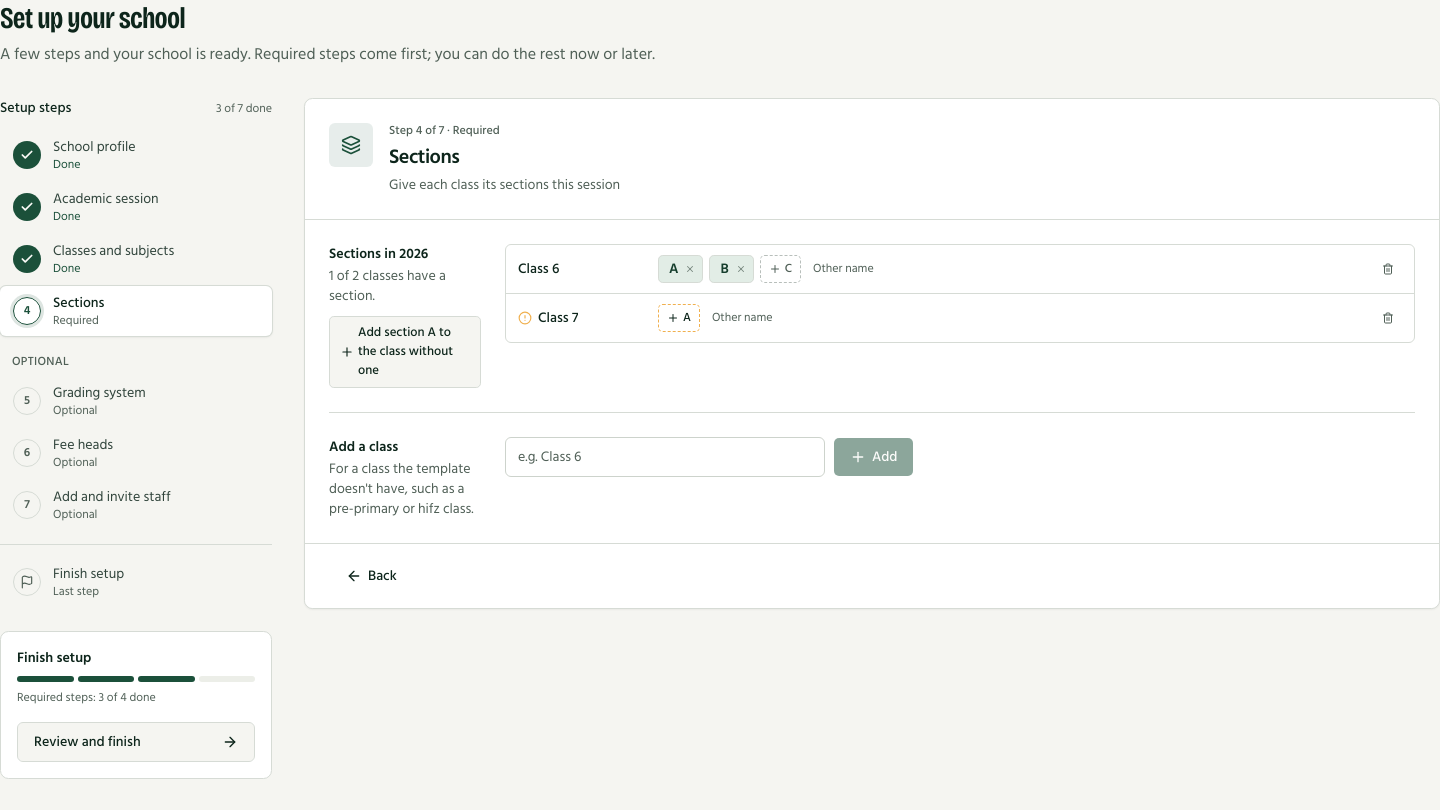
Test: OnboardingWizard › removes a section, and a class after confirming
Click the button named "Remove section B of Class 6" at (741, 269), box [733,261,749,277]
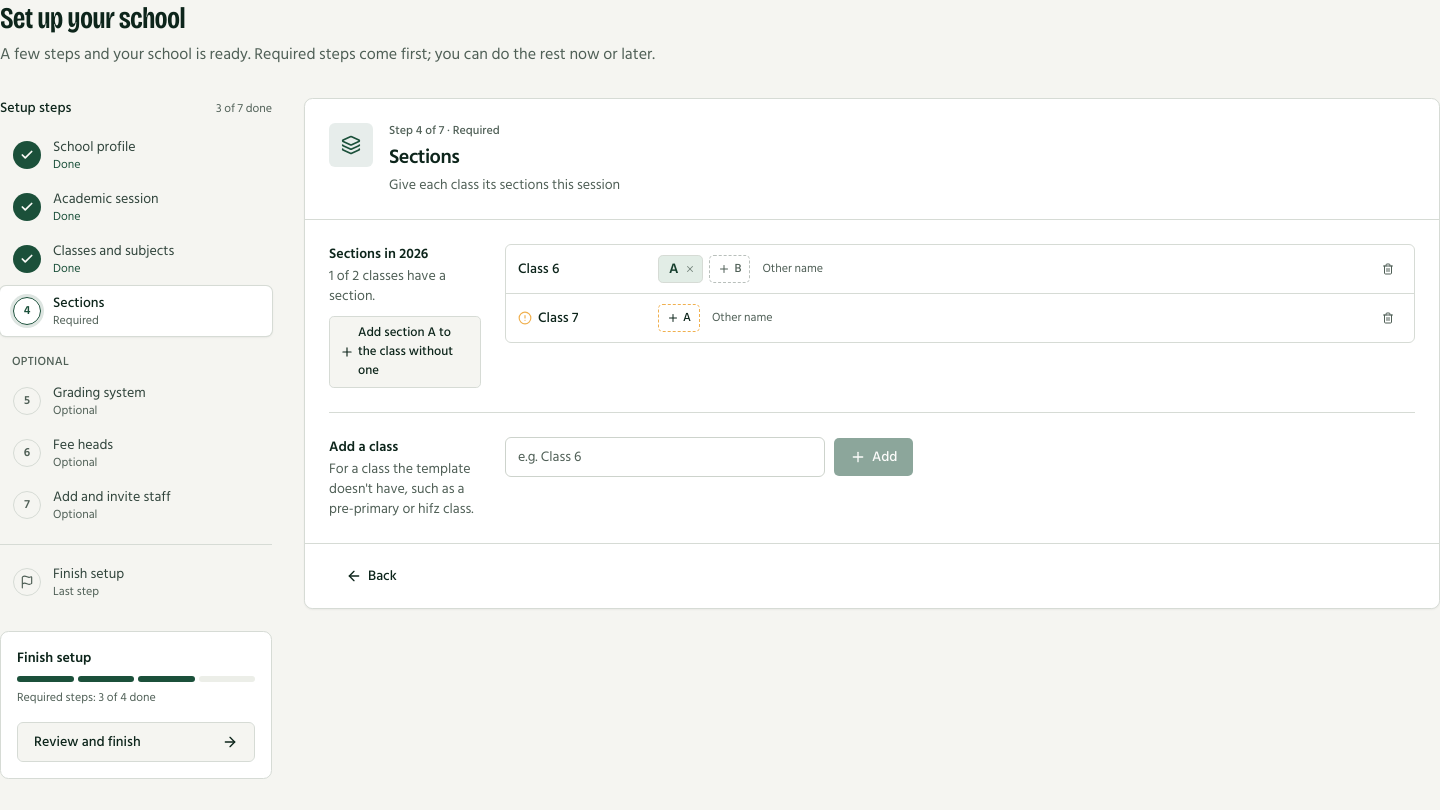
Click the button named "Remove Class 7" at (1388, 318), box [1374,304,1402,332]
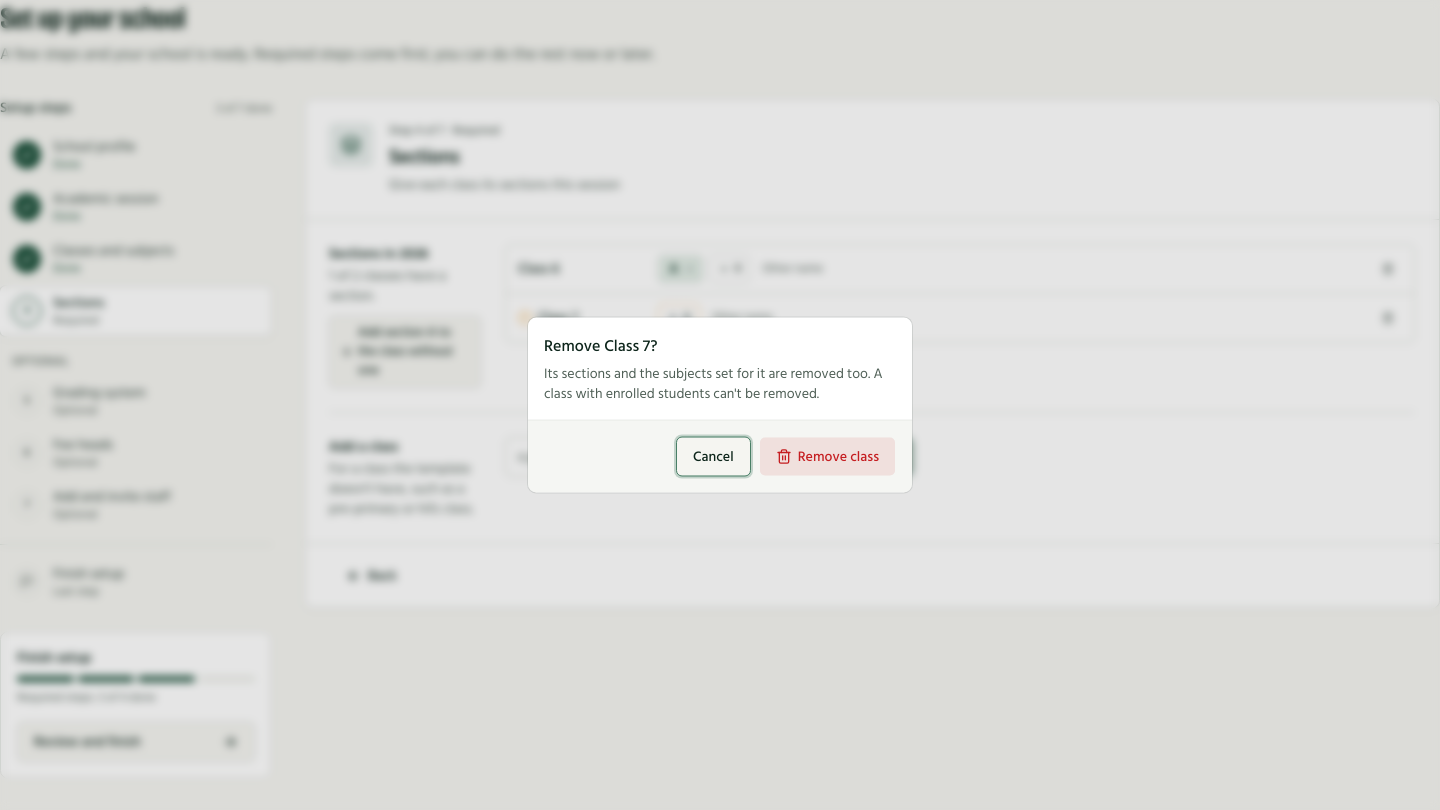
Check: the heading "Remove Class 7?" is shown, box [544,334,658,358]
Click the button "Remove class" at (827, 456), box [759,436,896,476]
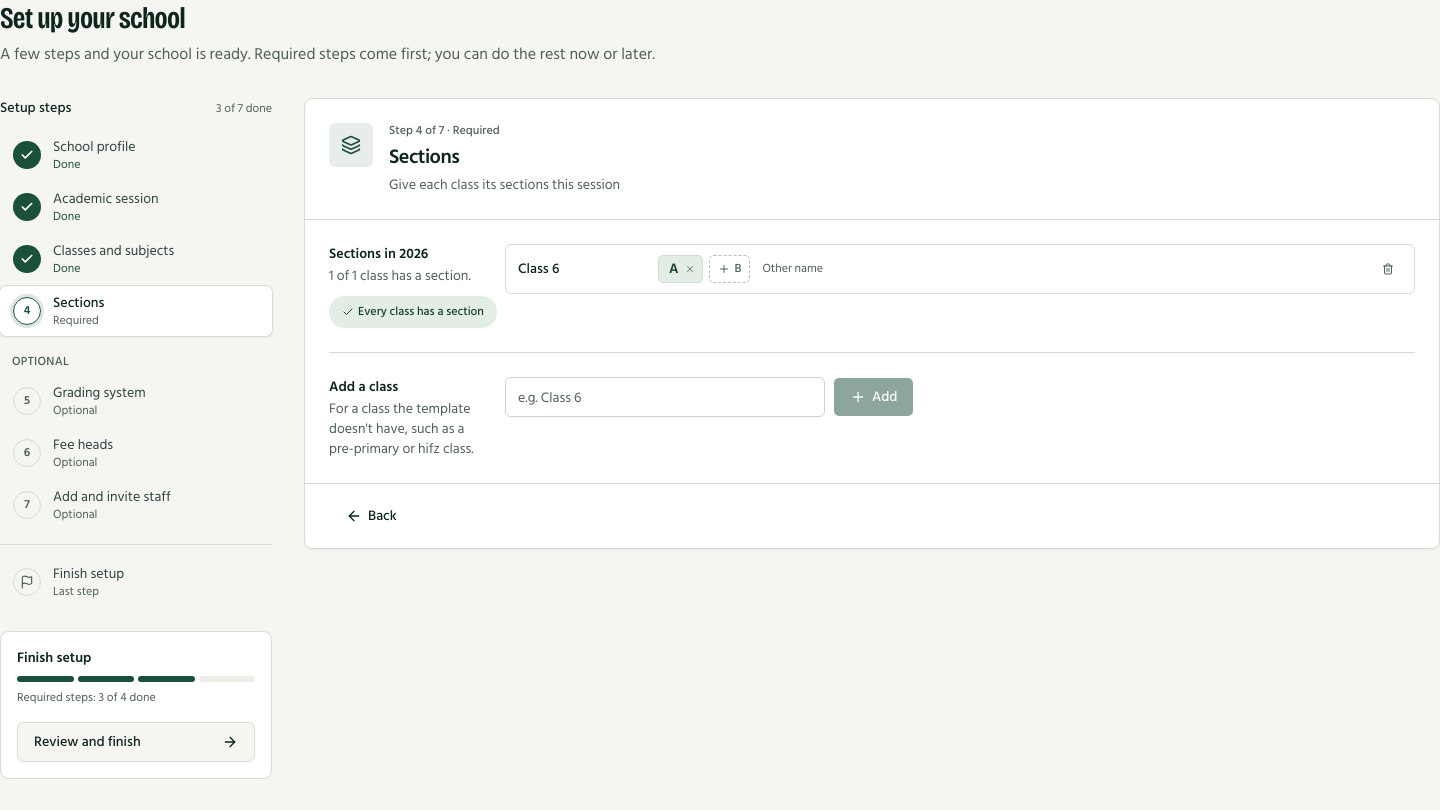
Check: the text "Class 7" is gone
